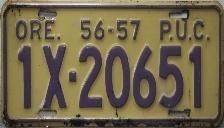0: (105, 42, 132, 109)
1: (15, 43, 37, 110), (188, 43, 206, 110)
2: (77, 43, 104, 110)
5: (158, 43, 186, 108)
6: (133, 43, 158, 110)
X: (39, 42, 70, 109)
